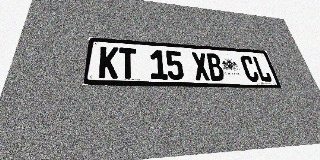1: (149, 49, 168, 80)
5: (165, 50, 185, 80)
B: (205, 53, 226, 81)
C: (239, 55, 260, 82)
K: (98, 46, 118, 78)
L: (252, 56, 273, 82)
T: (118, 47, 137, 79)
X: (191, 52, 211, 81)
